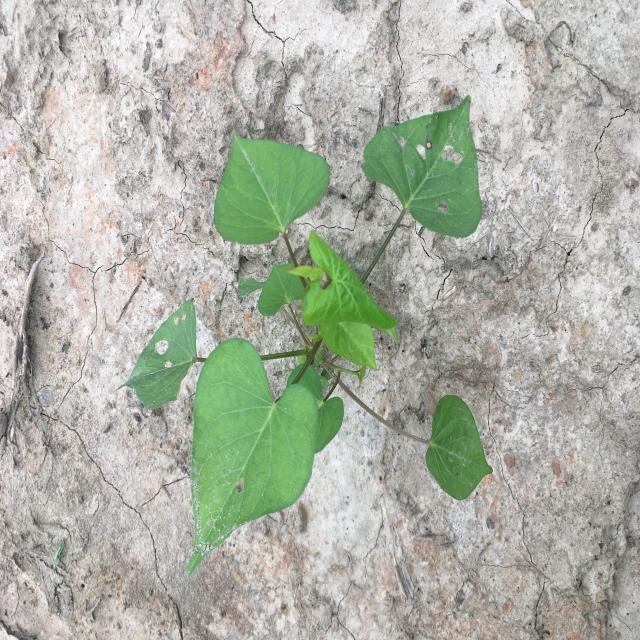MorningGlory: (116, 95, 493, 577)
